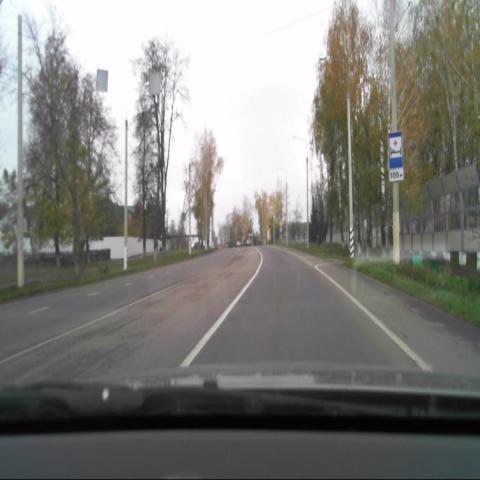7_2: (389, 131, 403, 169)
